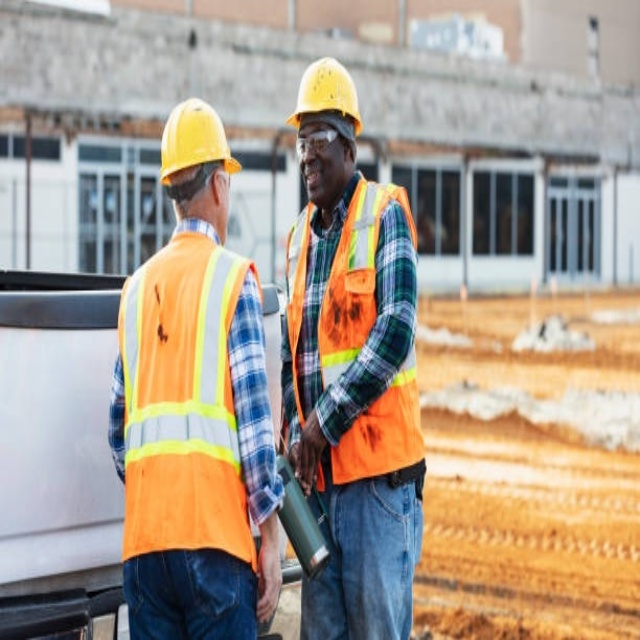Gafas: (294, 128, 339, 159), (202, 170, 232, 190)
Sin_guantes: (288, 414, 327, 494), (254, 529, 283, 625)
Sin_mascara: (303, 164, 324, 197)
